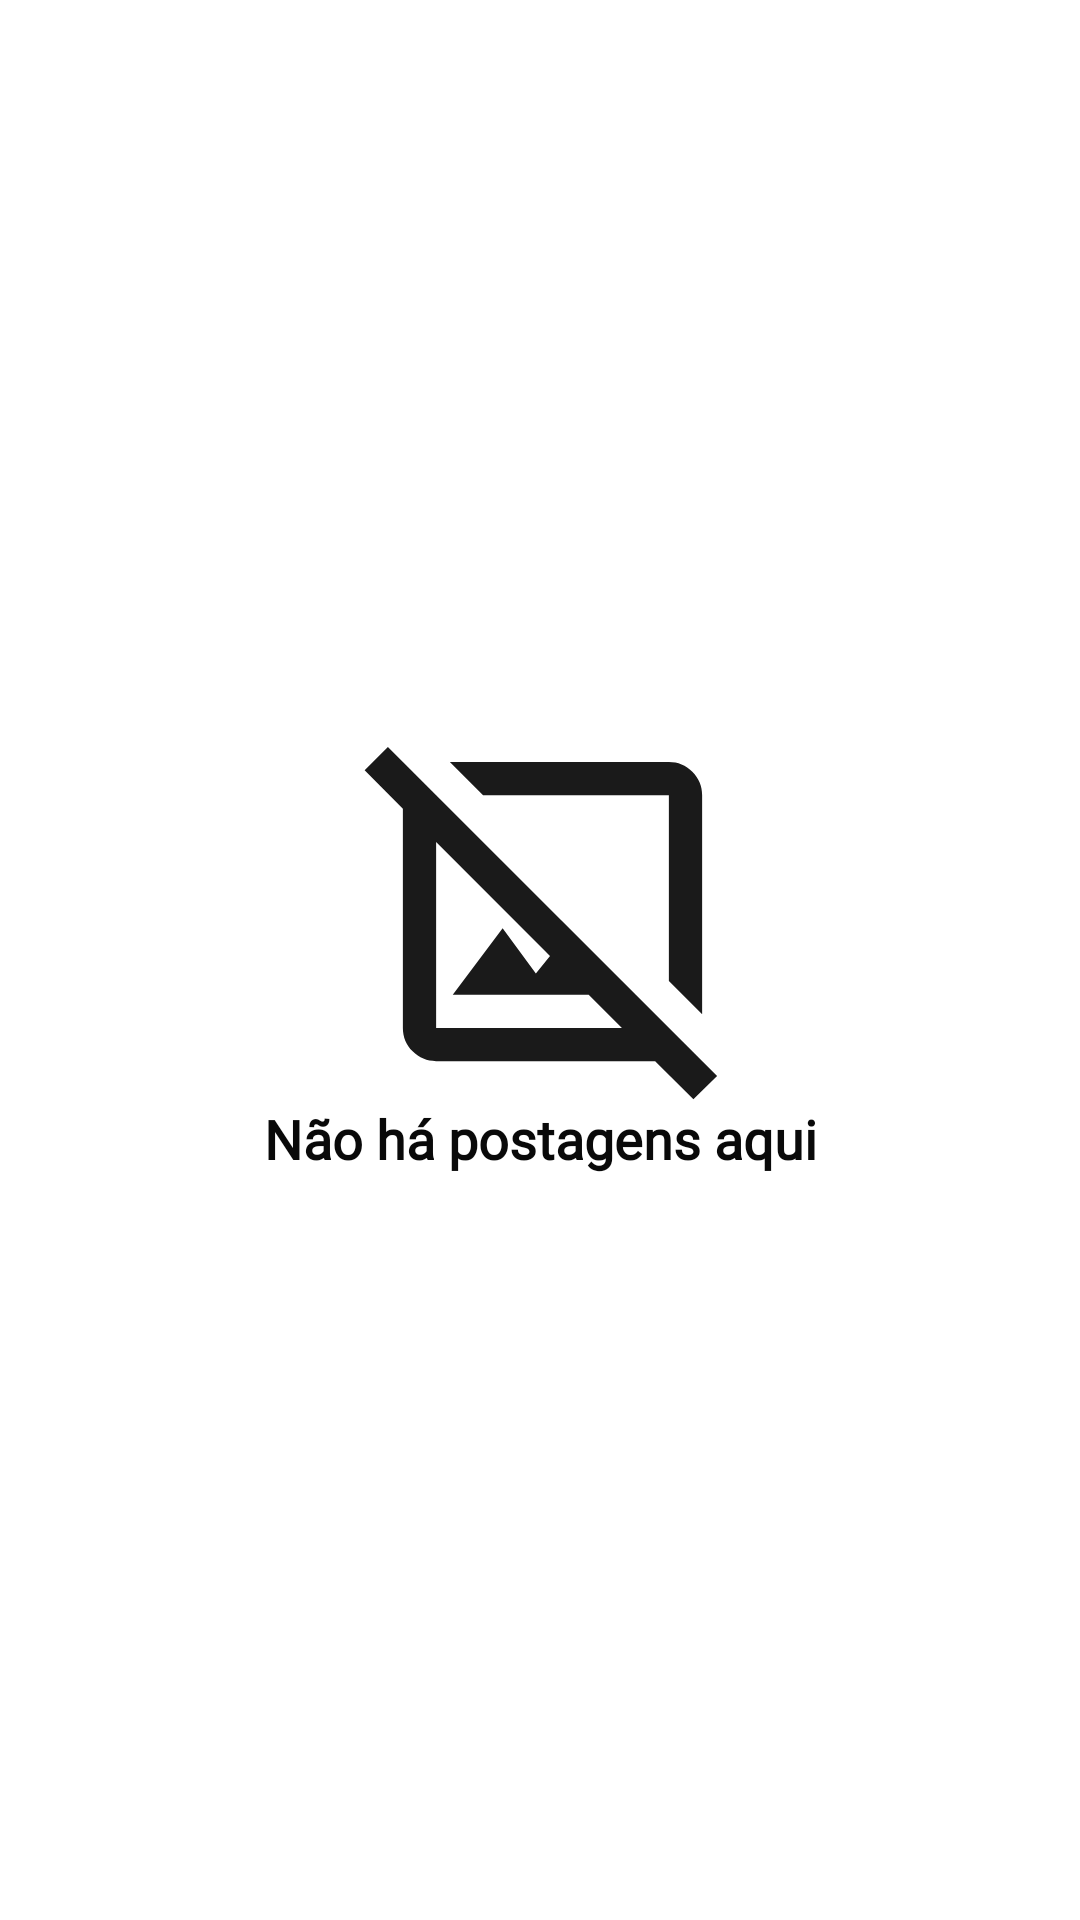

Screen size 1080px x 1920px. Icon name, then its box in pixels as (x1, y1, x2, y2):
blank recycle view: (364, 747, 717, 1099)
